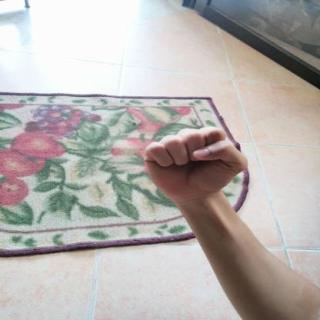SAD: (133, 115, 254, 210)
